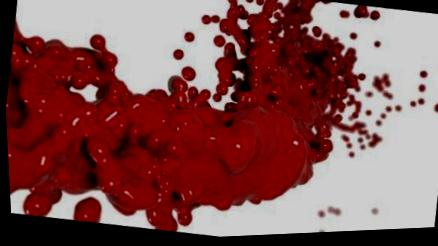Fire: (4, 0, 379, 233), (355, 8, 438, 121), (70, 199, 97, 223), (171, 50, 182, 61), (183, 34, 193, 43)
